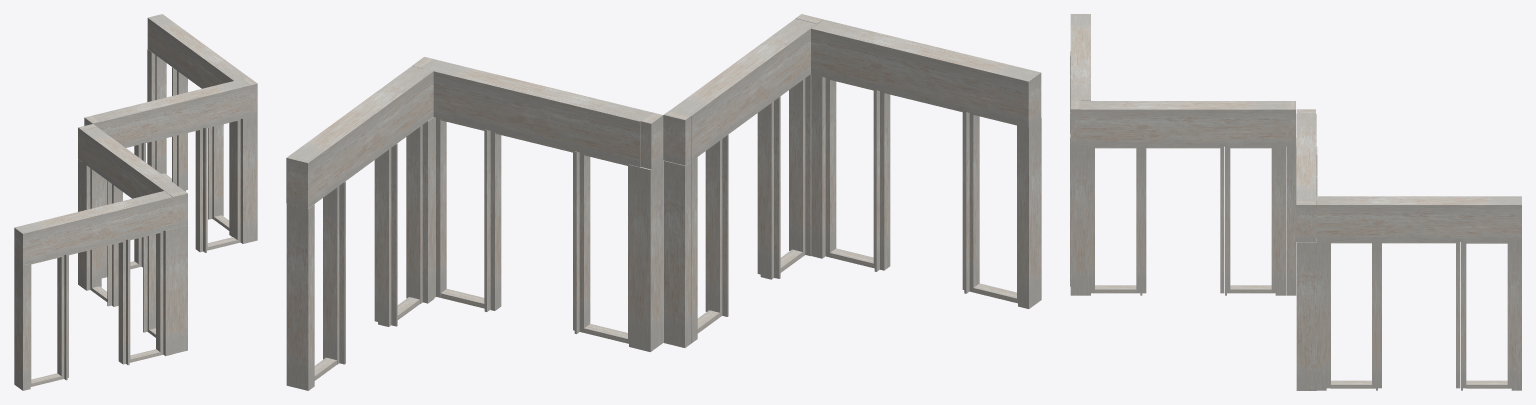
File: InnerWalls8.fbx
3 views of the same model, side by side, from view 1: azimuth 30°, elevation 25°; view 2: azimuth 150°, elevation 25°; view 3: azimuth 270°, elevation 25° (orthographic). The views are drawn at different scales.
Parts seen in each view (by area): view 1: walls, top; view 2: walls, top; view 3: top, walls.
Boxes of the visible parts, x1,y1,x2,y2 form: walls: (14,49,257,390); top: (14,14,257,264); walls: (286,74,1041,390); top: (286,14,1041,208); top: (1070,14,1521,241); walls: (1070,51,1521,390).
Bounding box in the file's own units: 22.01 × 10.01 × 22.01.
